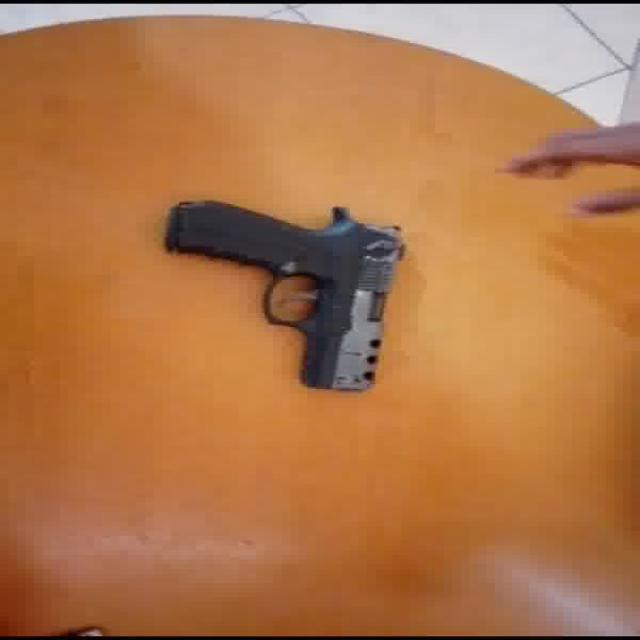weapon: (162, 198, 408, 391)
